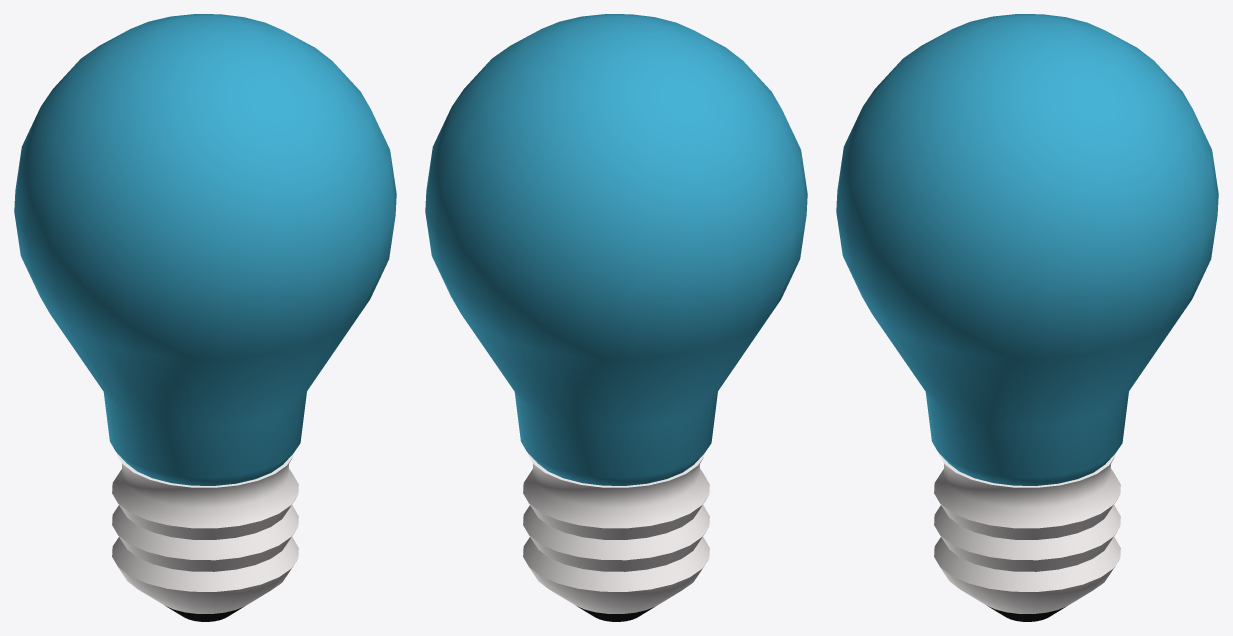
File: lightbulb.glb
The picture shows the model from 3 angles, left to right: view 1: azimuth 30°, elevation 25°; view 2: azimuth 150°, elevation 25°; view 3: azimuth 270°, elevation 25°; orthographic projection.
Parts seen in each view (by area): view 1: Object_7; view 2: Object_7; view 3: Object_7.
Part boxes in pixels (x1,y1,x2,y2): Object_7: [14, 14, 396, 621]; Object_7: [425, 14, 807, 621]; Object_7: [836, 14, 1218, 621].
Size of the model in its own units: 1.79 by 3 by 1.79.
